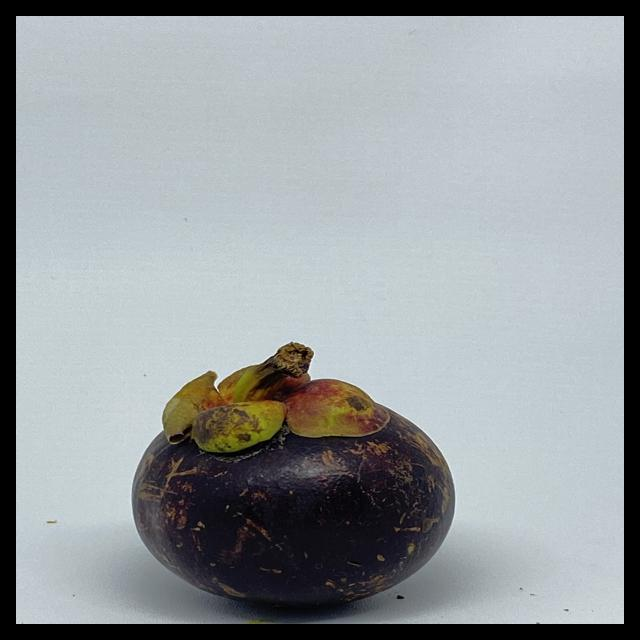mangosteen: (109, 324, 476, 624)
